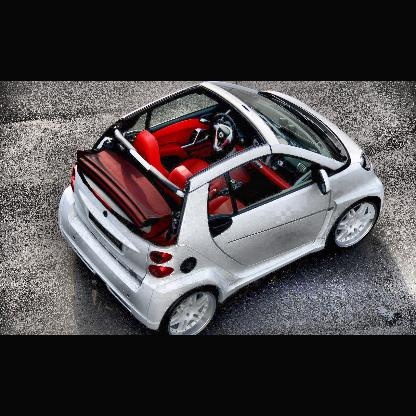smart fortwo Convertible 2012: (61, 82, 386, 334)
